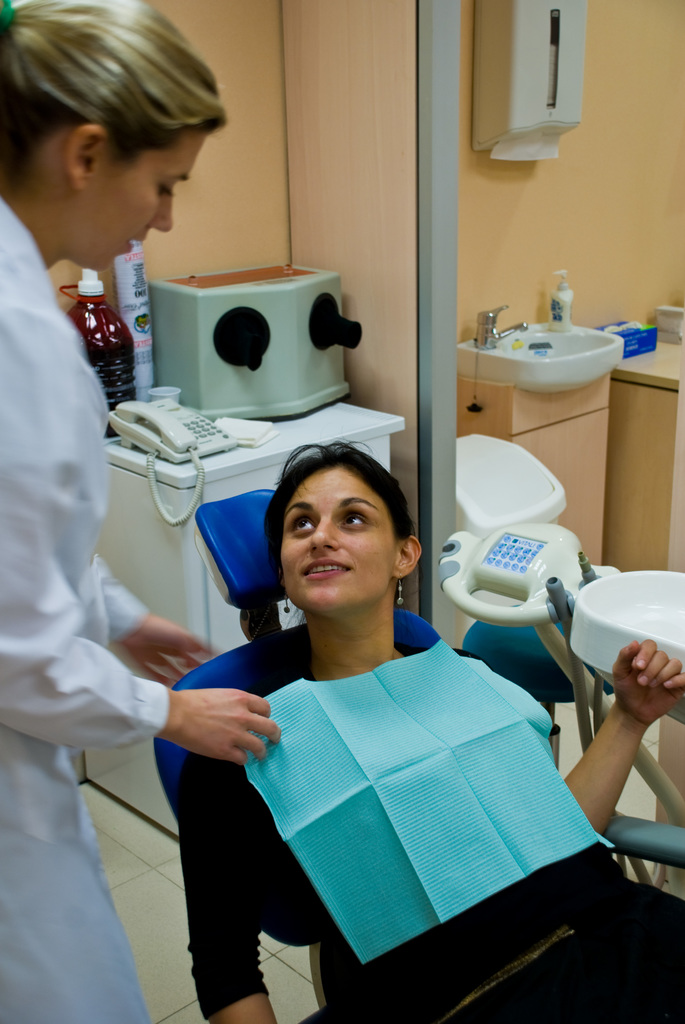face: (96, 92, 199, 269)
